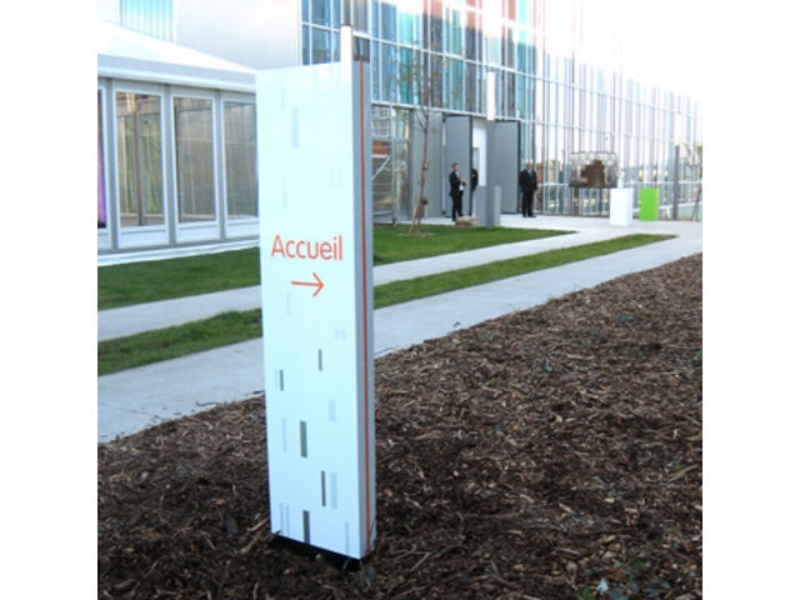text: (273, 233, 288, 263), (289, 233, 304, 263), (305, 233, 320, 263), (321, 233, 336, 263), (337, 233, 343, 263), (271, 233, 272, 263)
